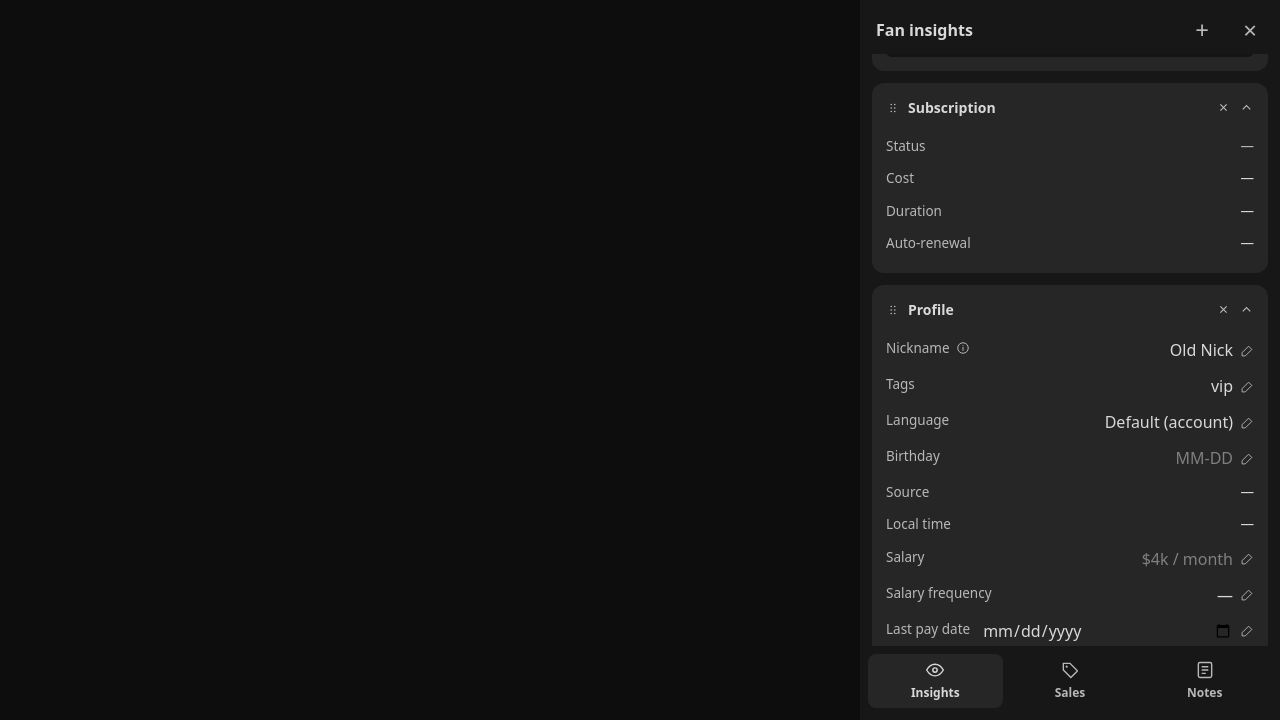
Scenario: Fan insights edits › shows 'Saved locally, but OnlyFans rejected…' under the content when an OnlyFans write fails
The width and height of the screenshot is (1280, 720).
(page scrolled)
Replace the text in the field with placeholder "Fan Seven" with "New Nick". click: (1107, 350)
box: top-left (982, 338), bottom-right (1233, 362)
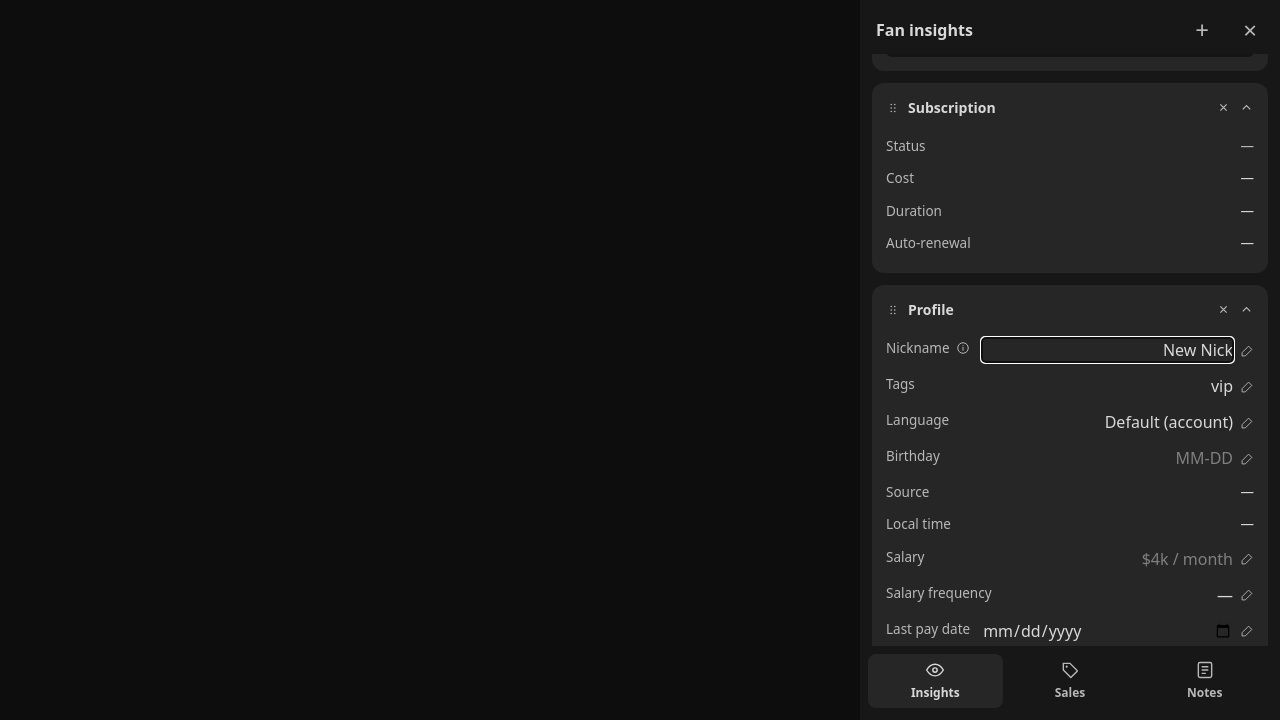
Press Tab
(page scrolled)
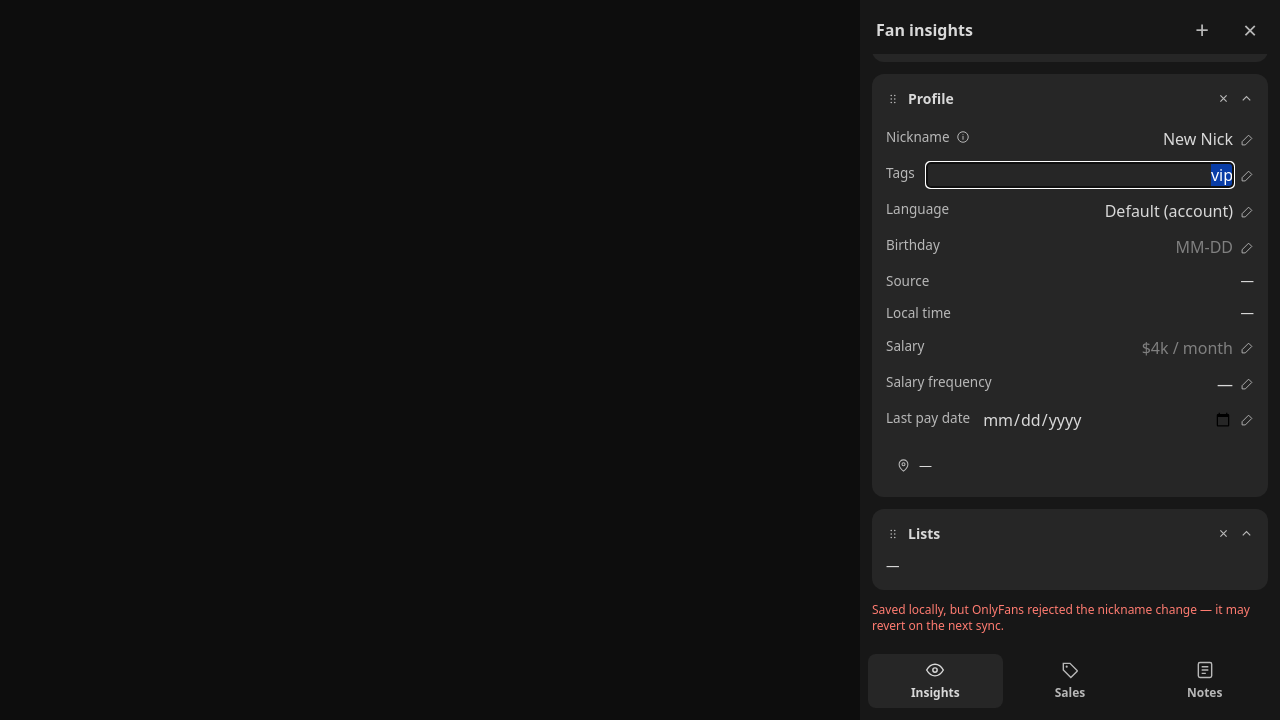
Expected: the text "Saved locally, but OnlyFans rejected" is shown, top-left (872, 601), bottom-right (1250, 634)
